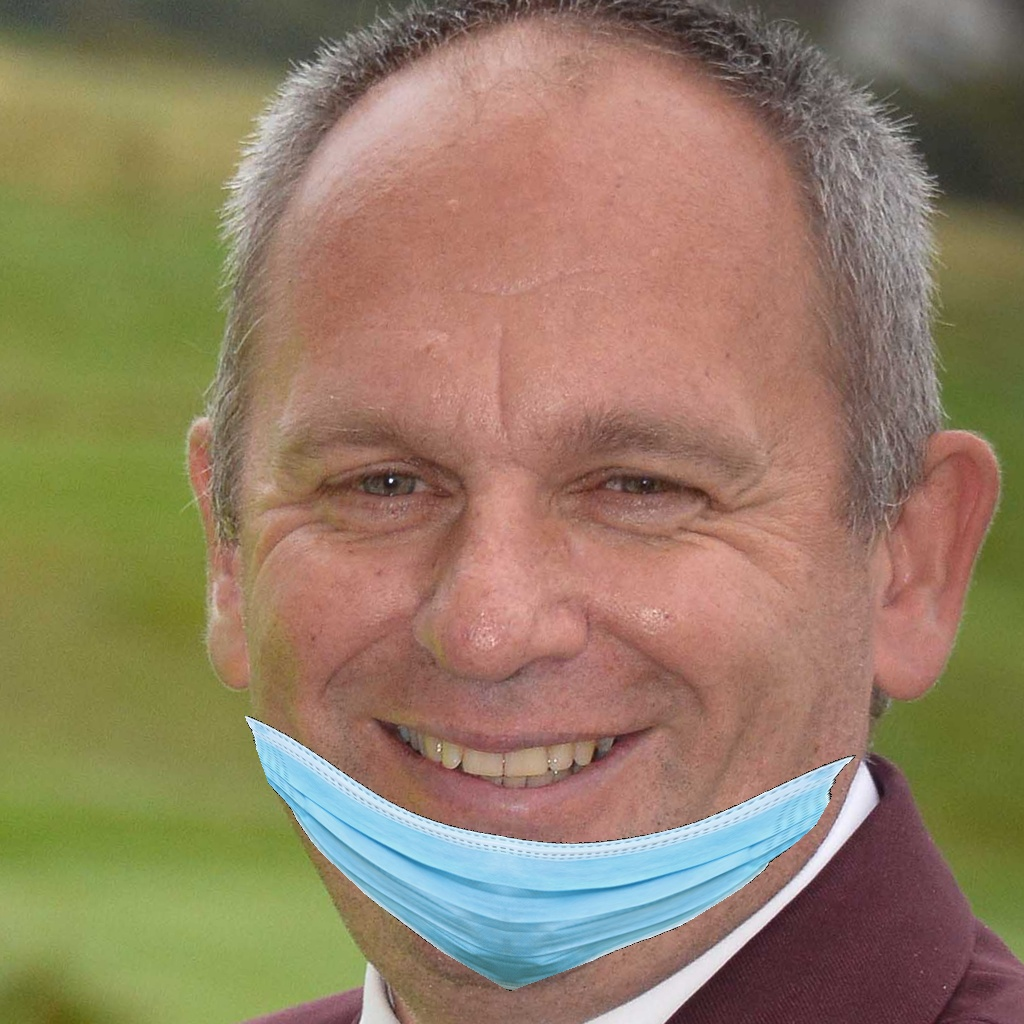Mask_Chin: (245, 394, 854, 991)
